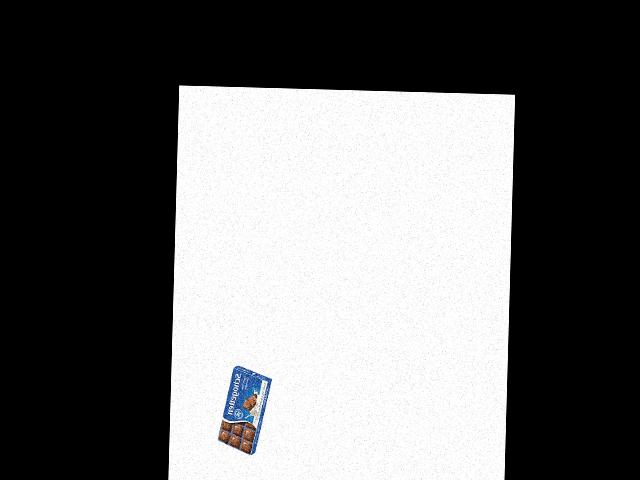chocolate: (217, 363, 265, 456)
